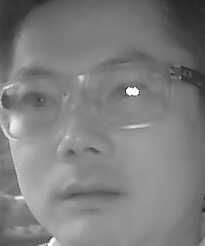eye: (20, 90, 54, 109)
glass: (86, 60, 169, 128), (2, 74, 69, 138)
mouth: (55, 178, 125, 214)
